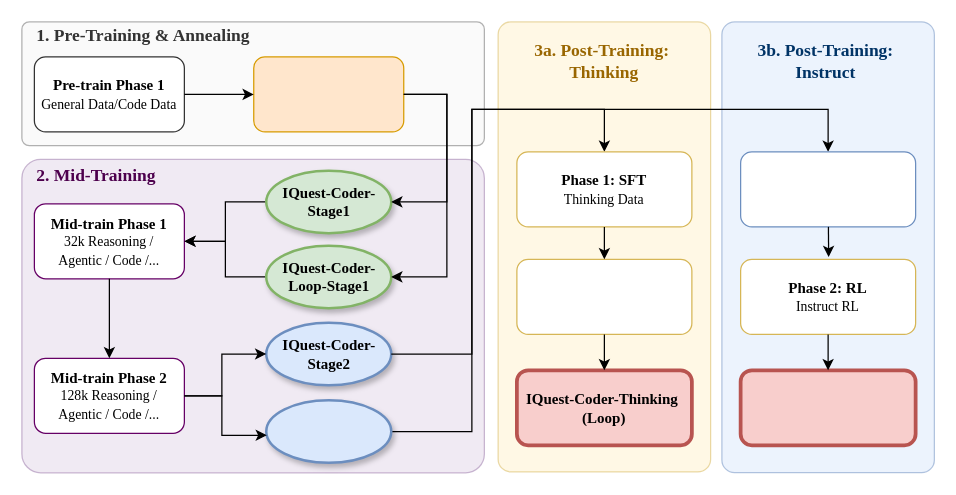
The diagram is 956 pixels wide and 495 high, and some of its shapes have lost their labels. The centre of each missing label's shape, as x and y in pixels:
"Annealing Phase 2 High Quality Code" belongs at [328,94].
"IQuest-Coder- Loop-Stage2" belongs at [329,432].
"IQuest-Coder-Instruct (Loop)" belongs at [827,407].
"Phase 1: SFT General & Code SFT" belongs at [827,189].
"Phase 2: RL Reasoning RL" belongs at [604,296].
